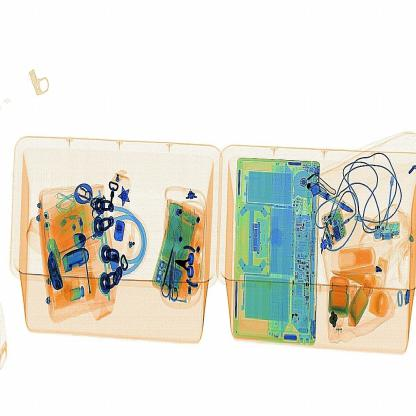gun: (174, 242, 202, 281)
